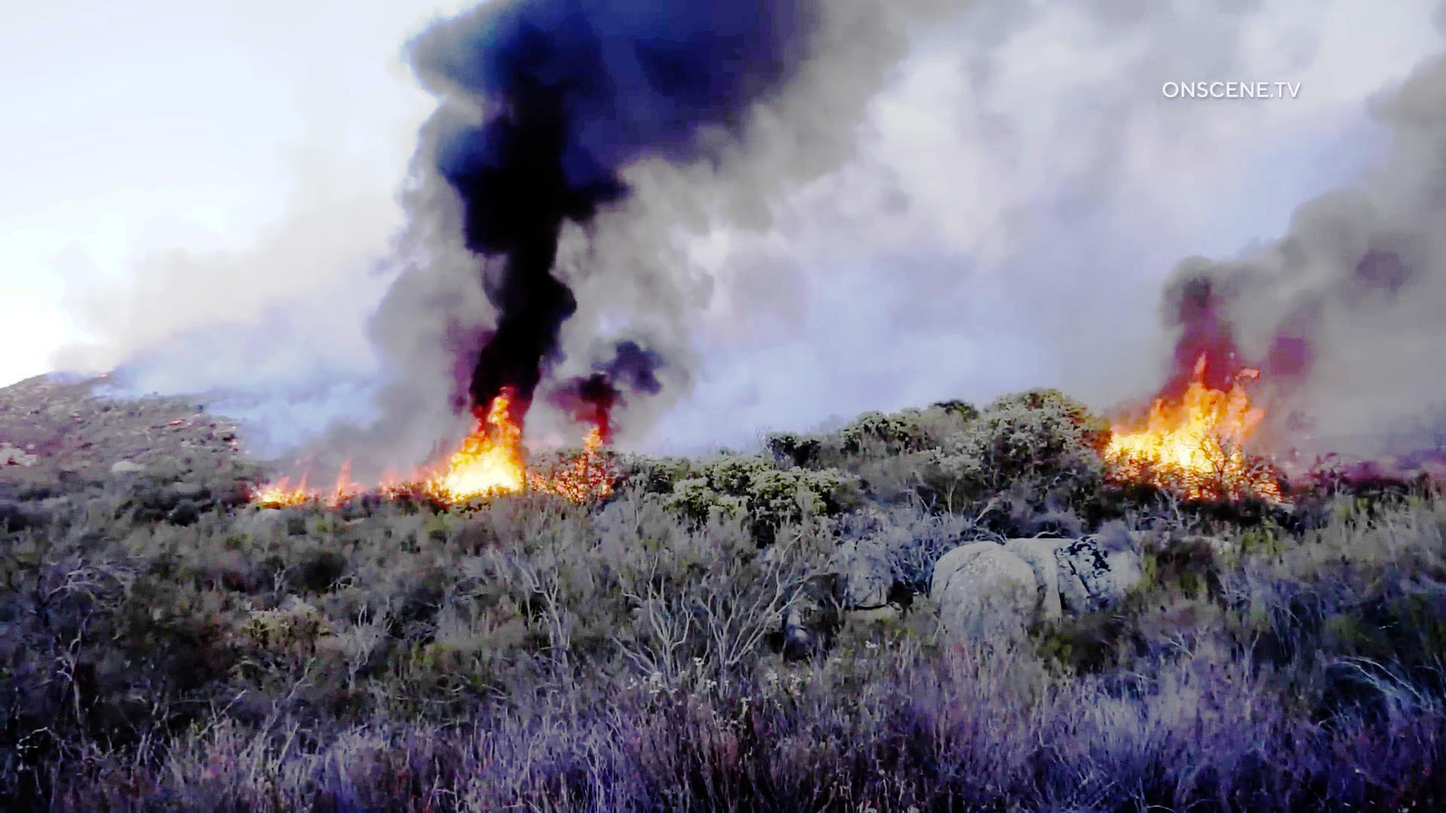fire: (379, 409, 570, 533), (1117, 347, 1251, 496)
smoke: (365, 0, 674, 431), (1179, 123, 1443, 374)
